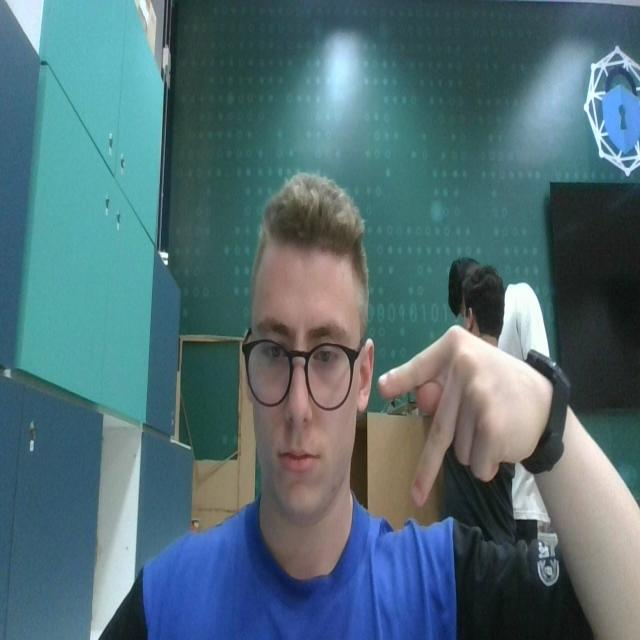P: (374, 322, 536, 505)
